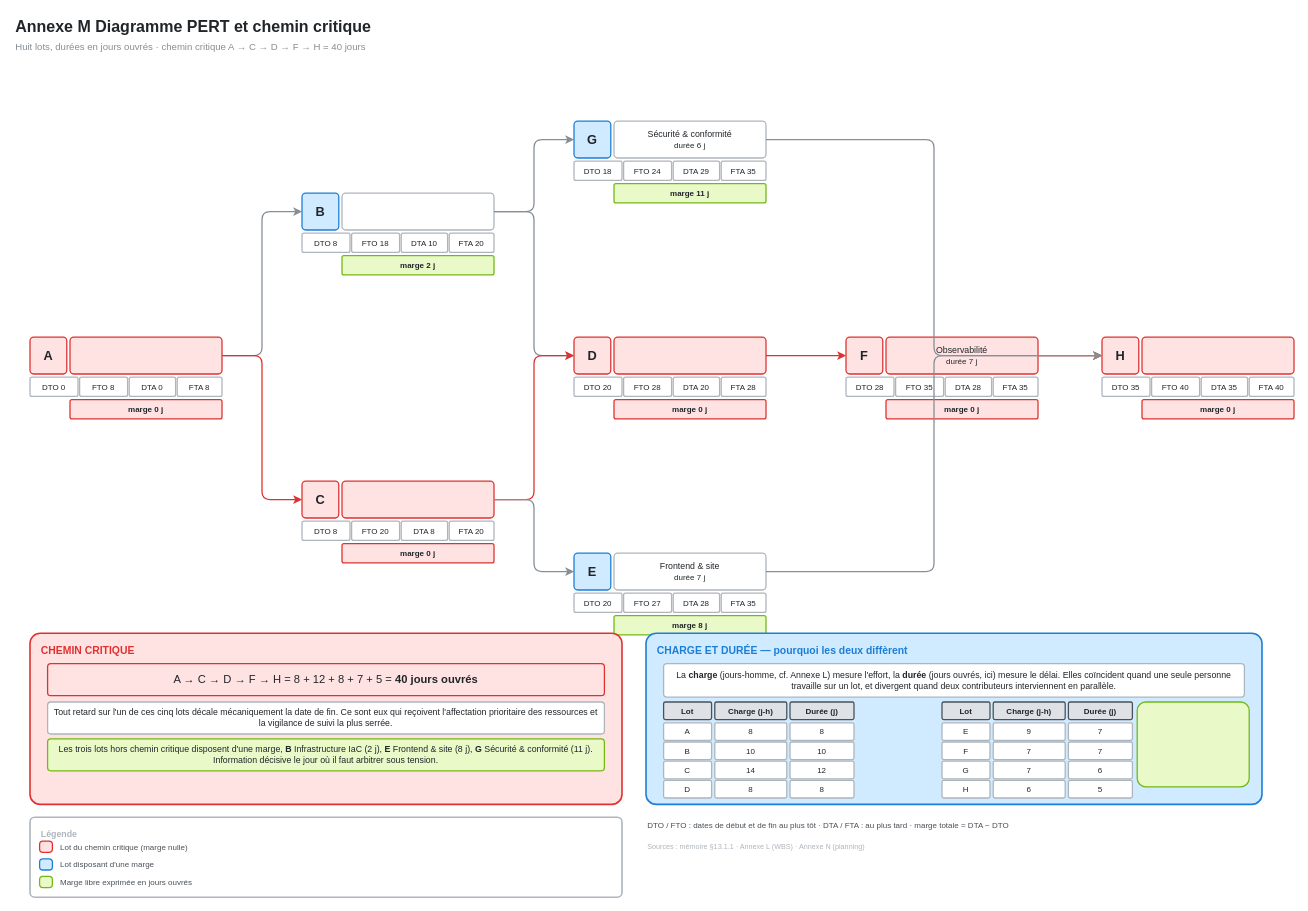
This 1308x911 diagram has some shape labels left out. Here are the shapes that lost their labels. From the top down, the centre of each, then its label:
At (x=417, y=211): "Infrastructure IaC durée 10 j".
At (x=145, y=355): "Cadrage & conception durée 8 j".
At (x=689, y=355): "Chaîne CI/CD durée 8 j".
At (x=1217, y=355): "Documentation & soutenance durée 5 j".
At (x=417, y=499): "Backend API durée 12 j".
At (x=1192, y=744): "Total 69 j-h Durée 40 j ouvrés".
